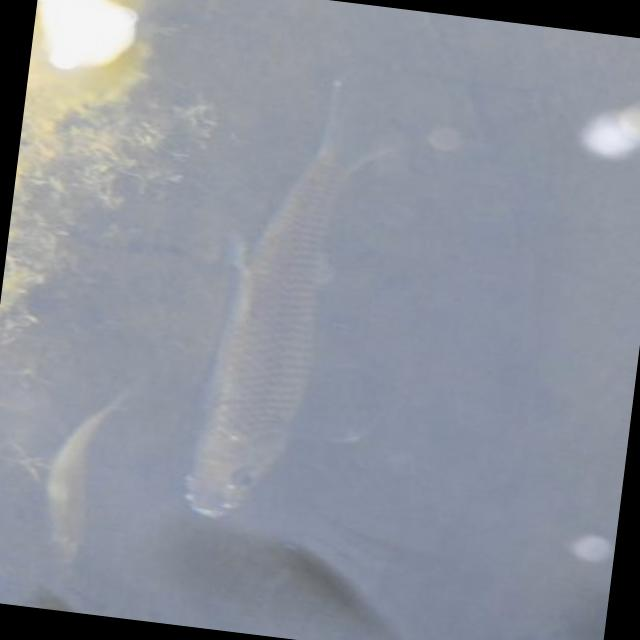Cakil Baligi: (168, 68, 431, 540)
